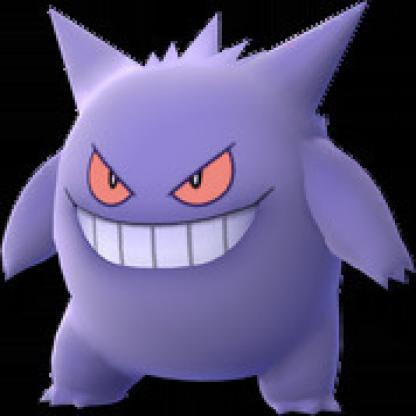Gengar: (1, 1, 406, 415)
